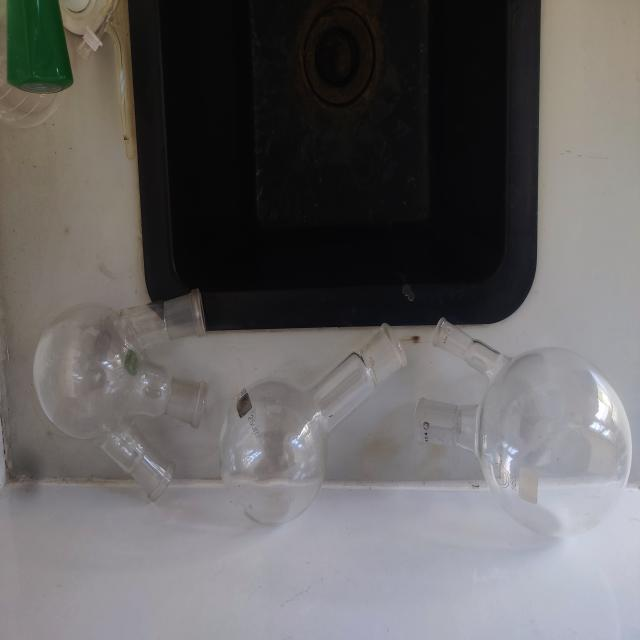Round_Bottom_Flask_Borosilicate_Glass_1_Neck: (204, 310, 412, 579)
Round_Bottom_Flask_Borosilicate_Glass_2_Neck: (402, 276, 639, 580)
Round_Bottom_Flask_Borosilicate_Glass_3_Neck: (10, 271, 231, 531)
